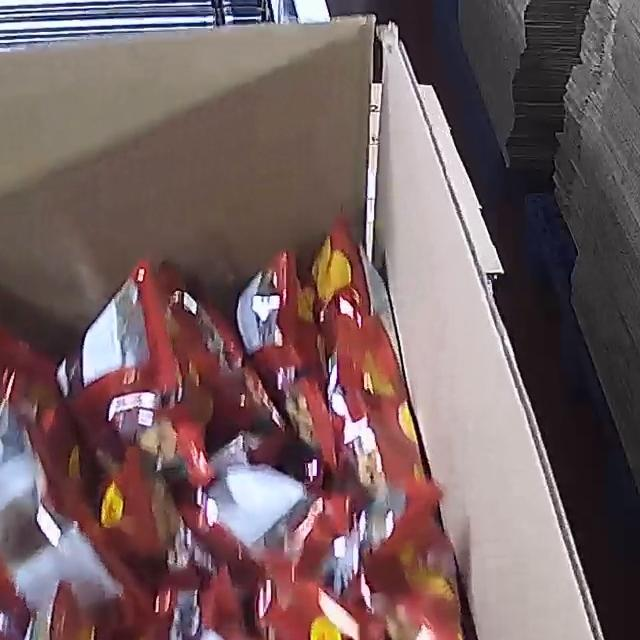masala: (0, 215, 498, 640)
